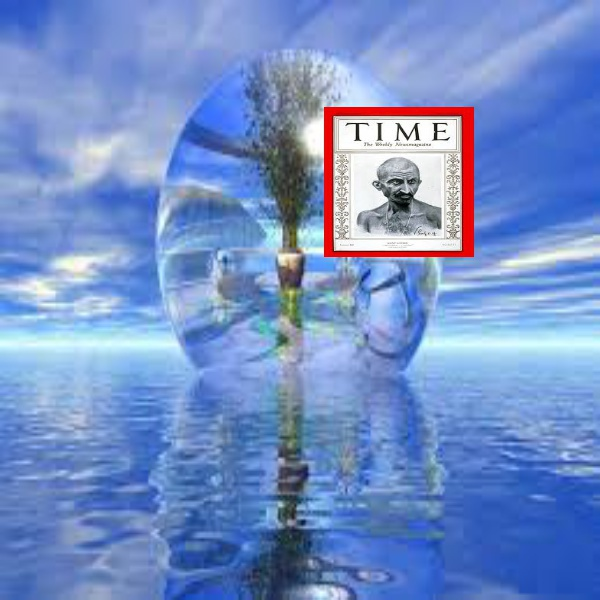time_cover: (327, 105, 478, 258)
